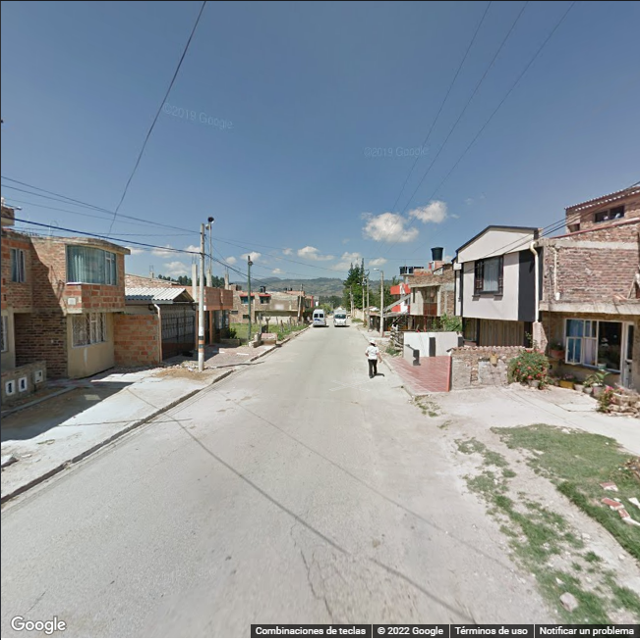D00: (298, 542, 318, 603)
D20: (320, 545, 421, 624)
